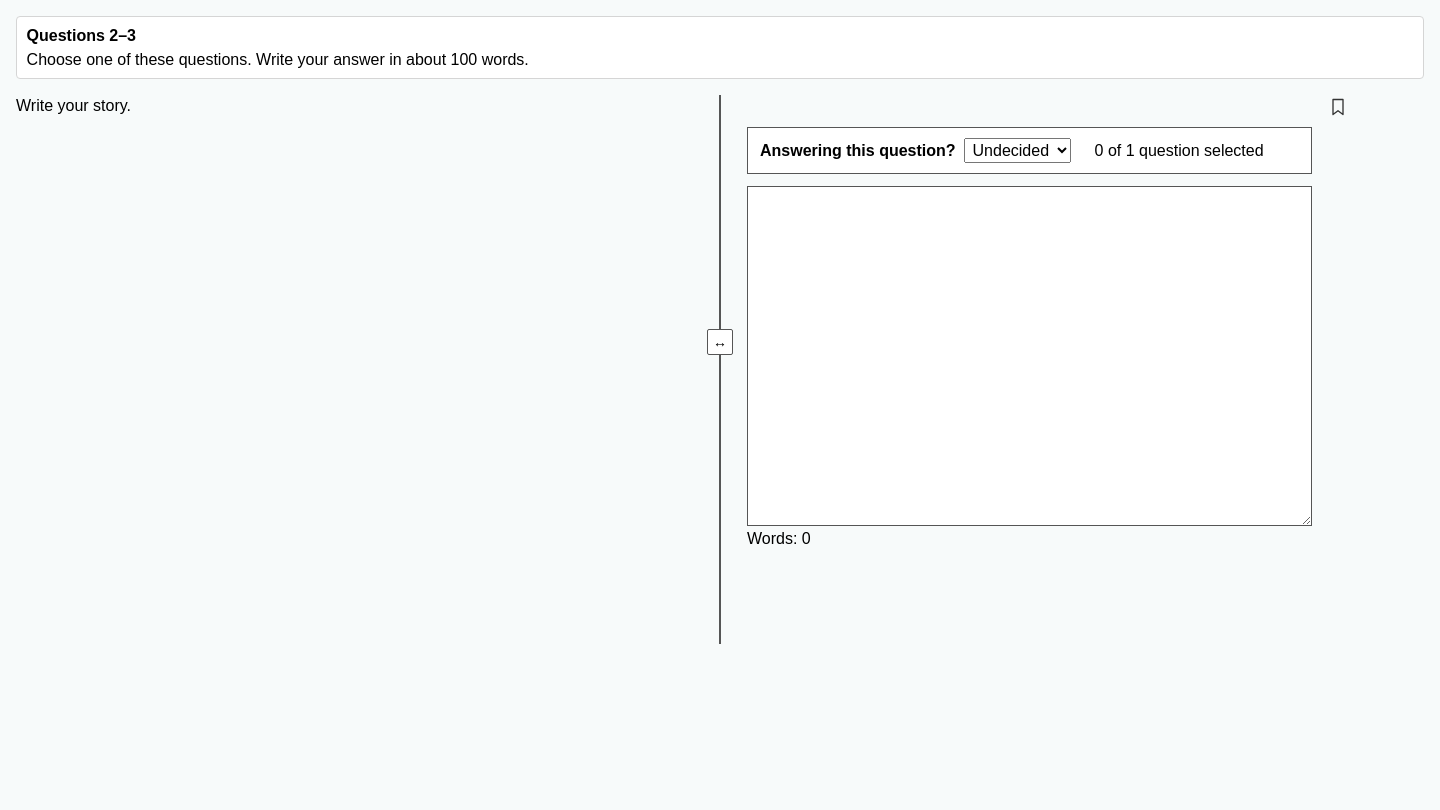
B1 Writing Part 2: choose one of the questions (VE-35) › shows the server’s refusal
Step 1. Select "Yes" in the dropdown named "Answering question 3?" → (1017, 151), box x1=964 y1=138 x2=1071 y2=163
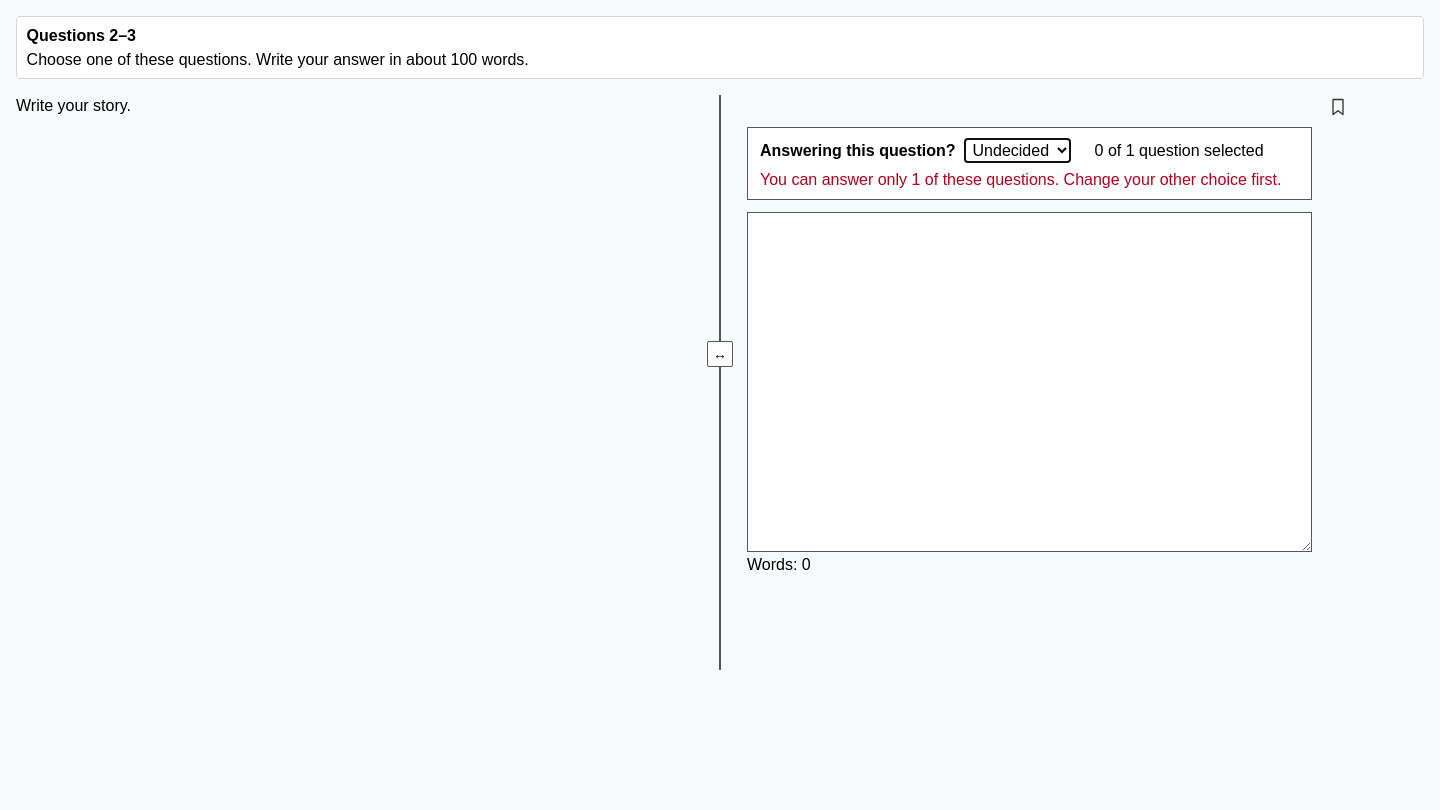
Result: the message shows "You can answer only 1 of these questions." at x1=760 y1=171 x2=1282 y2=188
